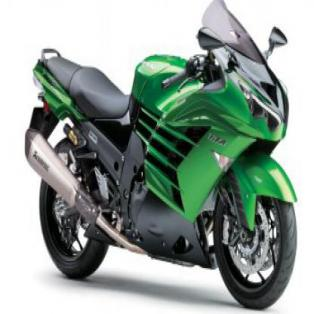Motocicleta: (20, 0, 302, 308)
